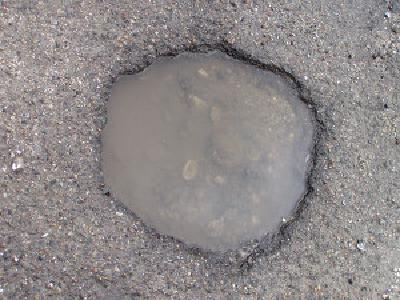pothole: (93, 37, 327, 270)
